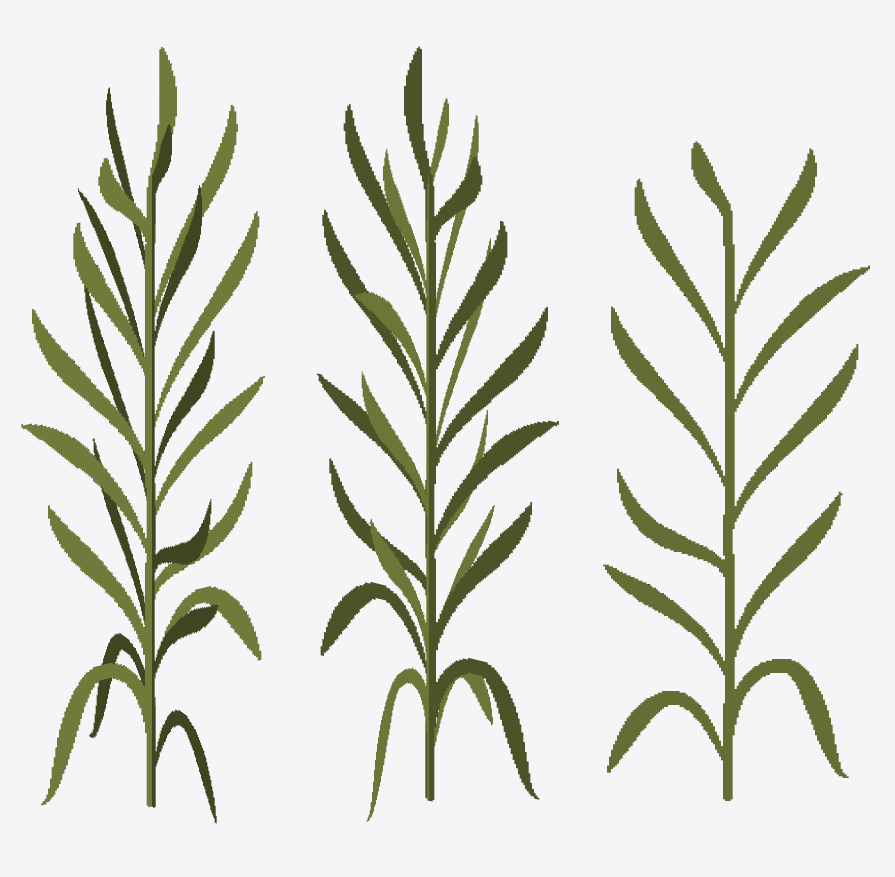
File: CatTail_3.gltf
3 views of the same model, side by side, from view 1: azimuth 30°, elevation 25°; view 2: azimuth 150°, elevation 25°; view 3: azimuth 270°, elevation 25° (orthographic). The views are drawn at different scales.
Visible parts, largest first — view 1: Cat_Tail_3; view 2: Cat_Tail_3; view 3: Cat_Tail_3.
Boxes of the visible parts, x1,y1,x2,y2 form: Cat_Tail_3: (21,47,264,823); Cat_Tail_3: (317,46,558,821); Cat_Tail_3: (603,141,869,800).
Bounding box in the file's own units: 37.35 × 104 × 37.21.
1 material, 1 textured.
